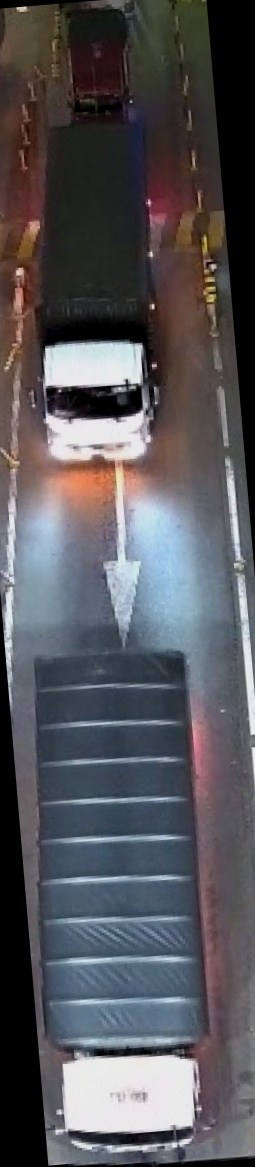truck: (10, 645, 234, 1162), (15, 127, 179, 473)
